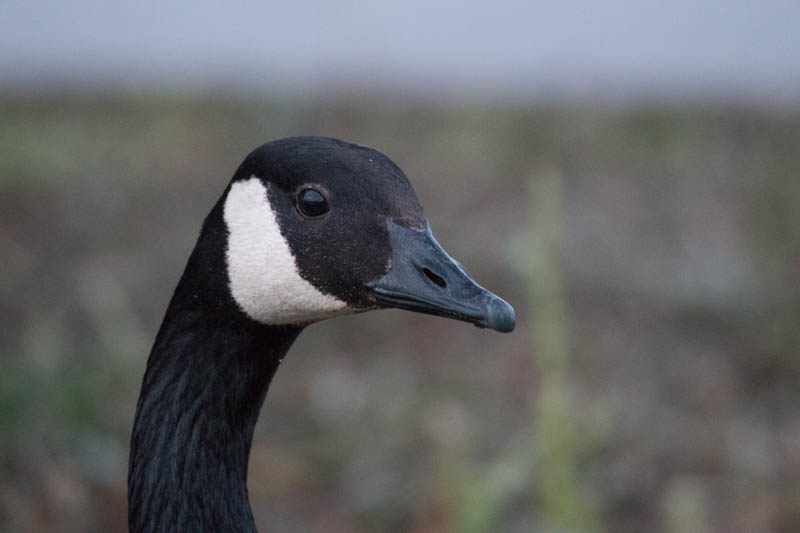goose-head: (194, 135, 516, 338)
